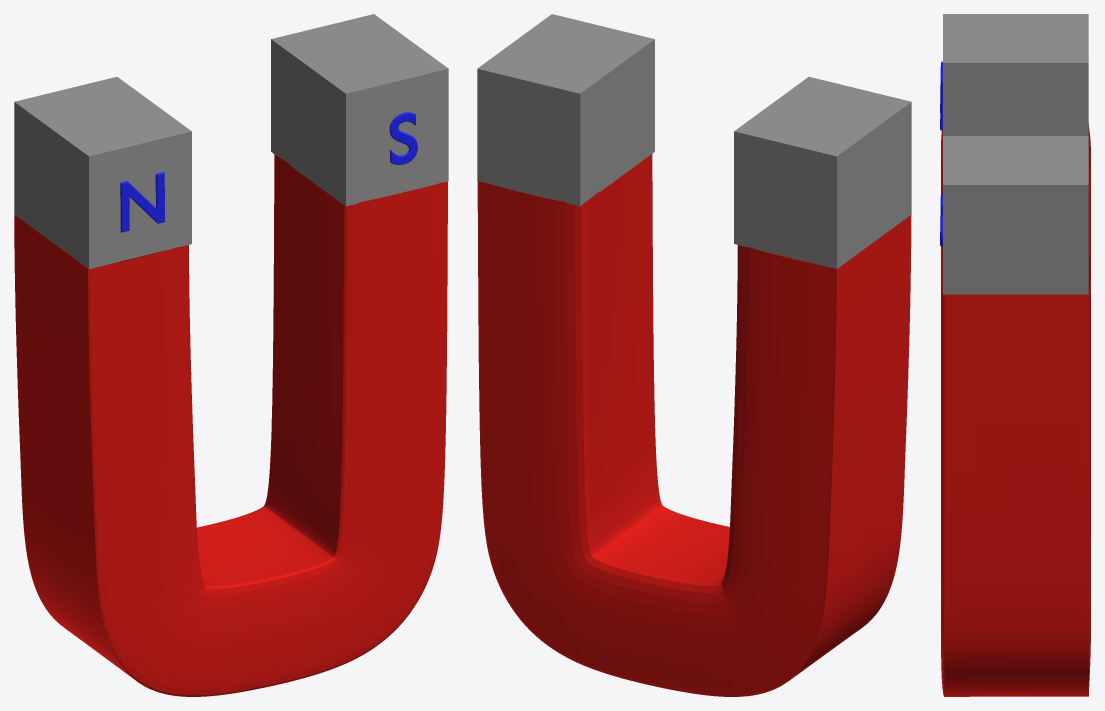
File: umagnet.glb
The picture shows the model from 3 angles, left to right: view 1: azimuth 30°, elevation 25°; view 2: azimuth 150°, elevation 25°; view 3: azimuth 270°, elevation 25°; orthographic projection. The views are drawn at different scales.
Parts seen in each view (by area): view 1: whole-redmagnet, N-magnetbar, S-magnetbar; view 2: whole-redmagnet, N-magnetbar, S-magnetbar; view 3: whole-redmagnet, S-magnetbar, N-magnetbar.
Part boxes in pixels (x1=…): whole-redmagnet: x1=14, y1=154, x2=447, y2=696; N-magnetbar: x1=14, y1=77, x2=191, y2=268; S-magnetbar: x1=271, y1=14, x2=448, y2=206; whole-redmagnet: x1=477, y1=154, x2=911, y2=696; N-magnetbar: x1=734, y1=76, x2=911, y2=268; S-magnetbar: x1=477, y1=14, x2=654, y2=206; whole-redmagnet: x1=941, y1=124, x2=1090, y2=696; S-magnetbar: x1=940, y1=136, x2=1088, y2=294; N-magnetbar: x1=940, y1=14, x2=1088, y2=135.
Size of the model in its own units: 0.6212 by 0.9476 by 0.2314.
